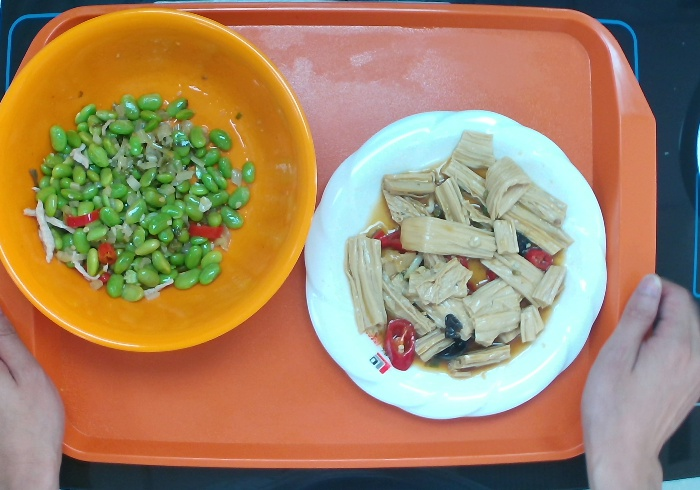ZNLD-Hua_Bian_Wan: (305, 105, 611, 421)
ZNLD-Ju_Se_Tang_Wan: (1, 9, 317, 353)
